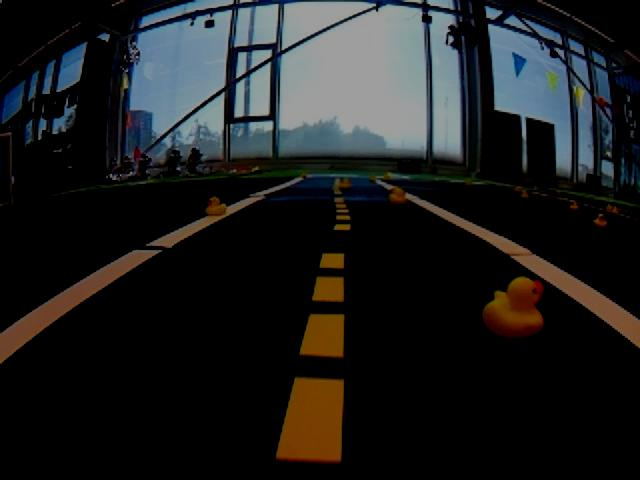Duckies: (482, 276, 545, 339), (204, 197, 226, 214), (389, 188, 409, 205), (592, 213, 608, 227), (338, 179, 352, 189), (607, 203, 619, 213), (519, 190, 529, 199), (569, 202, 579, 210), (384, 172, 392, 179), (513, 186, 521, 192), (369, 175, 377, 180), (466, 181, 472, 185)
